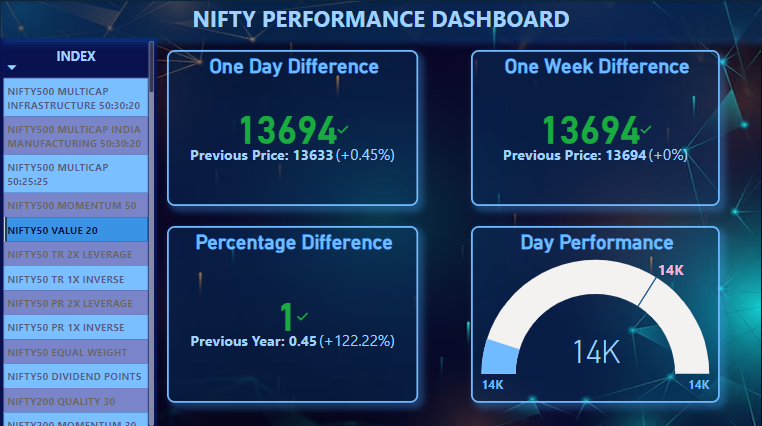

Layout of this report page (visuals, bound fields, positions):
{"tool":"powerbi","page":{"name":"Page 1","canvas":[1280,720],"ordinal":0},"visuals":[{"type":"tableEx","fields":{"Values":["Nifty data.INDEX "]},"box":[0,63.8,263.7,656.8],"z":0},{"type":"textbox","box":[0,0,1280,63.8],"z":1000},{"type":"kpi","title":"One Day Difference","fields":{"Goal":["Sum(Nifty data.PREV. DAY  28-Nov-2024)"],"TrendLine":["Nifty data.CURRENT "],"Indicator":["Sum(Nifty data.CURRENT )"]},"box":[280.5,84,421.6,262],"z":2000},{"type":"kpi","title":"One Week Difference","fields":{"Indicator":["Sum(Nifty data.CURRENT )"],"TrendLine":["Nifty data.CURRENT "],"Goal":["Sum(Nifty data.1W AGO  22-Nov-2024)"]},"box":[791.2,84,418.3,262],"z":3000},{"type":"kpi","title":"Percentage Difference","fields":{"Goal":["Sum(Nifty data.%Change)"],"TrendLine":["Nifty data.1Y AGO  30-Nov-2023"],"Indicator":["CountNonNull(Nifty data.1Y AGO  30-Nov-2023)"]},"box":[280.5,379.6,421.6,297.3],"z":3001},{"type":"gauge","title":"Day Performance","fields":{"Y":["Sum(Nifty data.OPEN )"],"MaxValue":["Sum(Nifty data.HIGH )"],"MinValue":["Sum(Nifty data.LOW )"],"TargetValue":["Sum(Nifty data.CURRENT )"]},"box":[791,380,418,297],"z":3002}]}

Visuals, with their boxes in screenshot pixels (x1, y1, x2, y2), scaled from the page's 1280x720 canvas onto the 762x426 screenshot:
tableEx - Nifty data.INDEX : bbox=[0, 38, 157, 425]
textbox: bbox=[0, 0, 761, 38]
"One Day Difference" kpi: bbox=[167, 50, 418, 205]
"One Week Difference" kpi: bbox=[471, 50, 720, 205]
"Percentage Difference" kpi: bbox=[167, 225, 418, 400]
"Day Performance" gauge: bbox=[471, 225, 720, 401]
